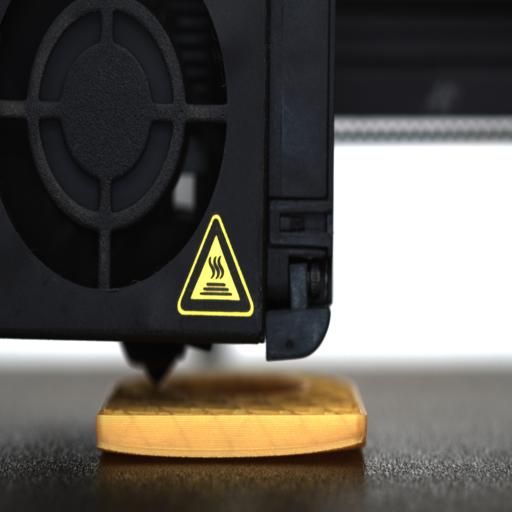warp: (304, 432, 369, 462), (94, 438, 147, 463)
